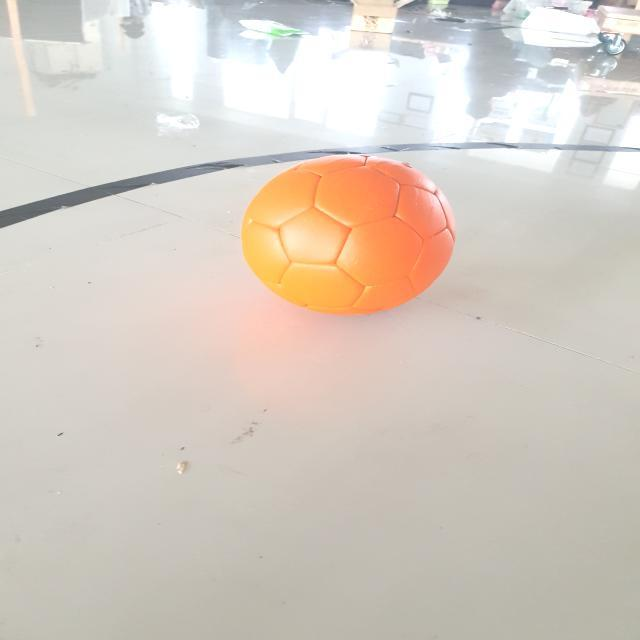bola: (234, 144, 466, 322)
